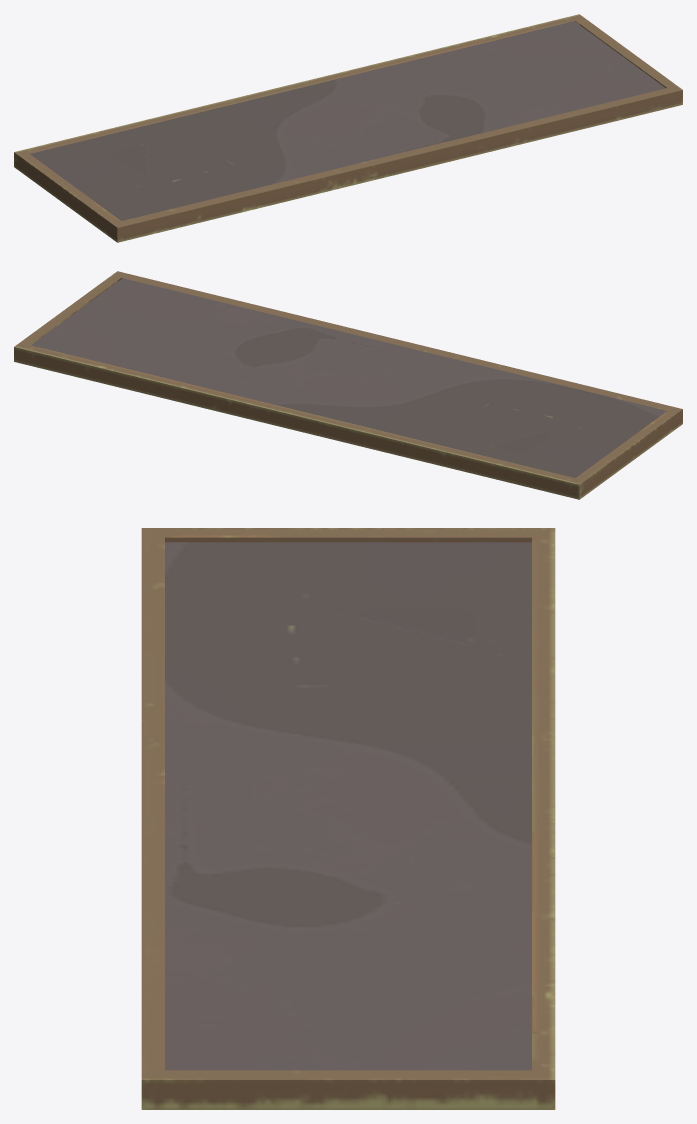
Rendered from platform.glb.
The picture shows the model from 3 angles, top to bottom: view 1: azimuth 30°, elevation 25°; view 2: azimuth 150°, elevation 25°; view 3: azimuth 270°, elevation 25°; orthographic projection. The views are drawn at different scales.
Parts seen in each view (by area): view 1: platform; view 2: platform; view 3: platform.
Part boxes in pixels (box(x1,y1,x2,y2)): platform: box(14, 14, 682, 242); platform: box(14, 271, 682, 499); platform: box(141, 528, 555, 1109).
Size of the model in its own units: 6.31 by 0.1595 by 2.
Materials: 1 (1 with a texture image).
